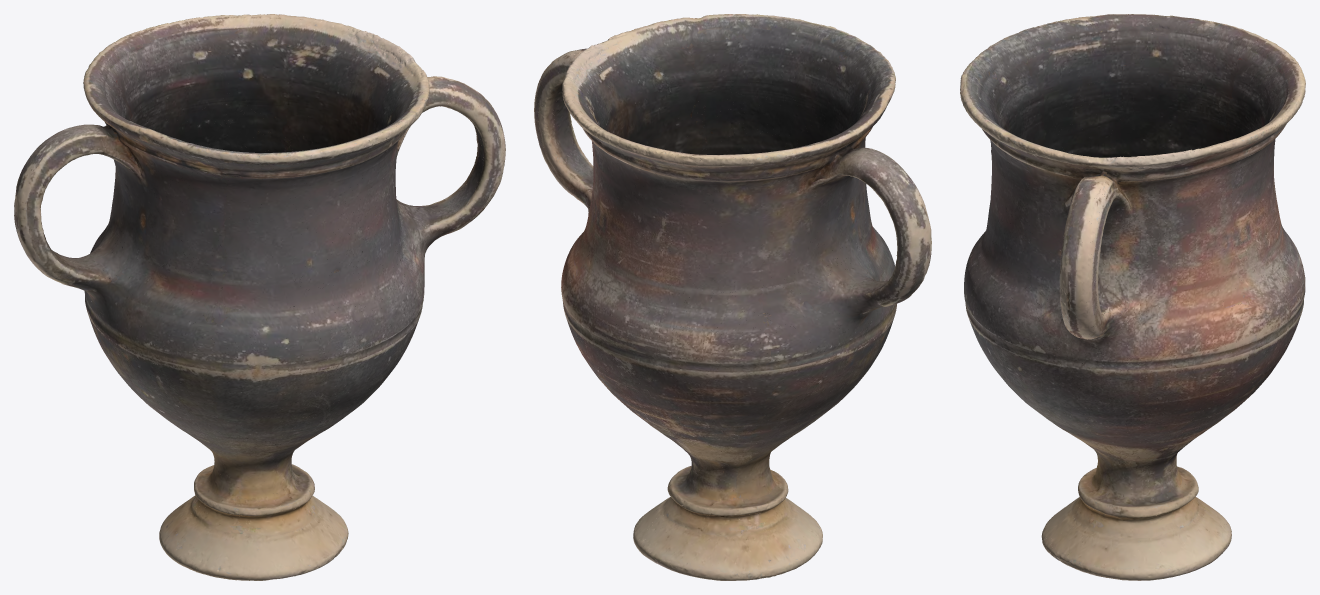
Rendered from 静物_瓶罐_NMB&H, Hellenistic pottery- kantharos_opt.glb.
3 views of the same model, side by side, from view 1: azimuth 30°, elevation 25°; view 2: azimuth 150°, elevation 25°; view 3: azimuth 270°, elevation 25° (orthographic).
Parts seen in each view (by area): view 1: 37399_u1_v1; view 2: 37399_u1_v1; view 3: 37399_u1_v1.
Boxes of the visible parts, x1=… form: 37399_u1_v1: x1=14, y1=14, x2=505, y2=580; 37399_u1_v1: x1=534, y1=14, x2=931, y2=580; 37399_u1_v1: x1=960, y1=14, x2=1305, y2=580.
Size of the model in its own units: 0.2987 by 0.3 by 0.2034.
1 material, 1 textured.
